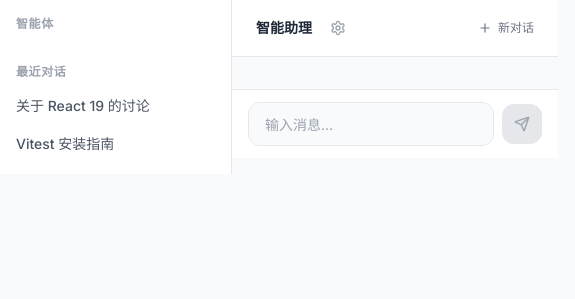
Test case: Chat page integration tests › allows typing and sending a message, showing AI response
Note: Input message
Type "你好" into the text box with placeholder "输入消息…".
click(371, 124); type("你好")  # box [248,102,494,146]
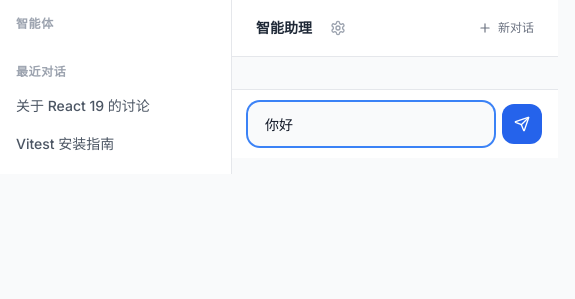
Click the button named "发送消息".
click(522, 124)  # box [502,104,542,144]
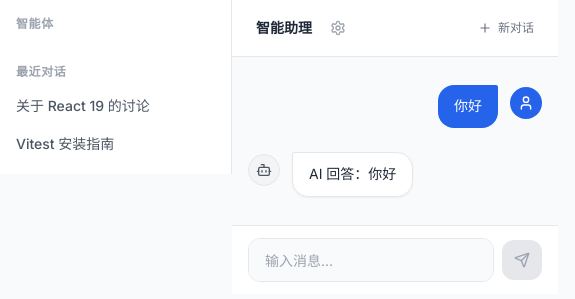
Expected: the text "你好" is shown, [454,95,482,118]
Expected: the text "AI 回答：你好" is shown, [309,163,396,186]
